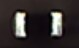COMP: (9, 6, 67, 42)
